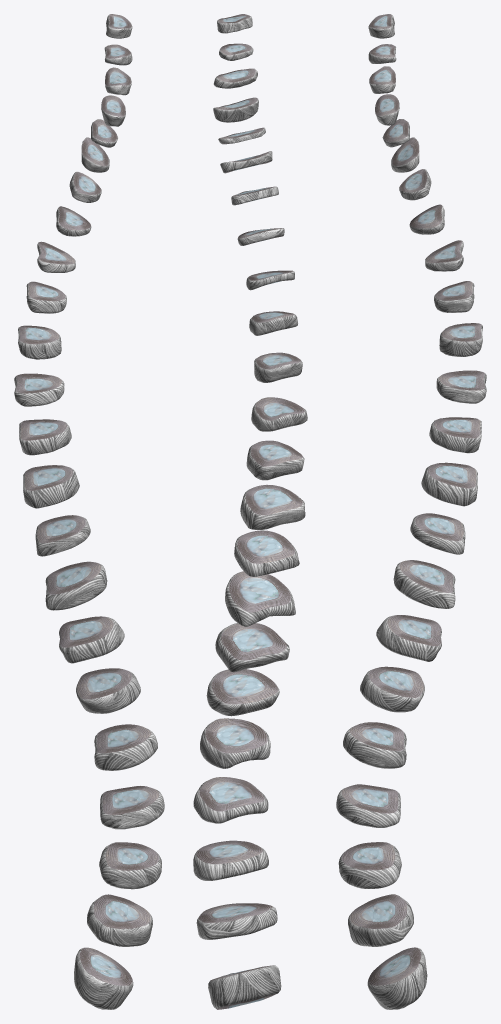
File: absorbers.glb
3 renders of one model, left to right at view 1: azimuth 90°, elevation 25°; view 2: azimuth 210°, elevation 25°; view 3: azimuth 270°, elevation 25°, orthographic.
Visible parts, largest first — view 1: disk_23, disk_22, disk_21, disk_19, disk_17, disk_18, disk_20, Disk_16, disk_14, disk_15, disk_13, disk_12 (+11 smaller); view 2: Disk_16, disk_19, disk_17, disk_18, disk_20, disk_21, disk_22, disk_15, disk_14, disk_23, disk_13, disk_12 (+11 smaller); view 3: disk_23, disk_22, disk_21, disk_19, disk_17, disk_18, disk_20, Disk_16, disk_14, disk_15, disk_13, disk_12 (+11 smaller).
Part boxes in pixels (x1,y1,x2,y2): disk_23: (74,947,133,1009); disk_22: (87,894,152,946); disk_21: (99,842,161,889); disk_19: (94,724,157,770); disk_17: (59,616,124,663); disk_18: (76,668,140,713); disk_20: (100,786,164,829); Disk_16: (45,561,107,610); disk_14: (23,465,79,508); disk_15: (35,515,90,556); disk_13: (19,419,71,455); disk_12: (14,373,64,406); Disk_16: (225,571,295,626); disk_19: (200,718,270,768); disk_17: (215,623,289,672); disk_18: (206,669,279,716); disk_20: (193,777,268,823); disk_21: (193,840,268,880); disk_22: (196,903,277,939); disk_15: (234,530,299,576); disk_14: (240,484,305,529); disk_23: (208,965,281,1009); disk_13: (246,440,304,480); disk_12: (251,397,307,431); disk_23: (367,947,427,1009); disk_22: (348,894,413,946); disk_21: (338,842,401,888); disk_19: (343,722,406,768); disk_17: (376,615,441,661); disk_18: (360,666,424,712); disk_20: (336,784,400,827); Disk_16: (393,560,455,608); disk_14: (421,462,477,506); disk_15: (410,513,465,554); disk_13: (429,417,481,453); disk_12: (436,370,486,403).
Size of the model in its own units: 33.1 by 430 by 59.59.
Materials: 2 (2 with a texture image).
